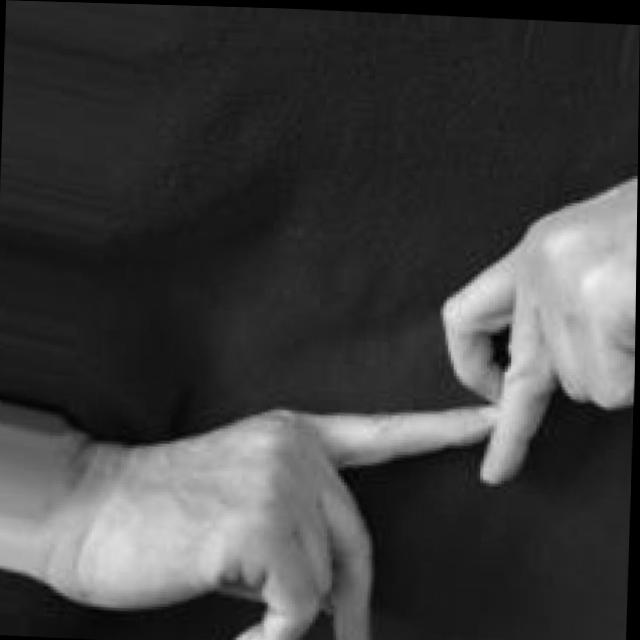R: (112, 136, 638, 640)
